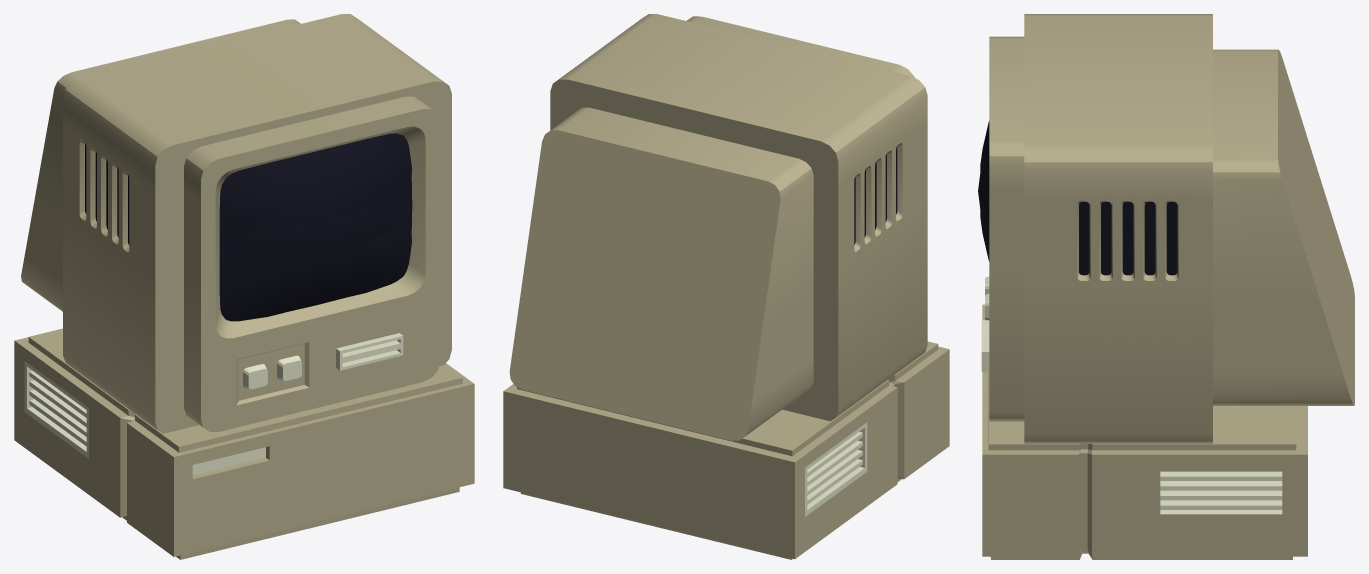
Rendered from computer.glb.
3 renders of one model, left to right at view 1: azimuth 30°, elevation 25°; view 2: azimuth 150°, elevation 25°; view 3: azimuth 270°, elevation 25°, orthographic. The views are drawn at different scales.
Parts seen in each view (by area): view 1: Computer; view 2: Computer; view 3: Computer.
Boxes of the visible parts, x1=… form: Computer: x1=14, y1=14, x2=474, y2=559; Computer: x1=503, y1=14, x2=949, y2=559; Computer: x1=978, y1=14, x2=1354, y2=559.
Bounding box in the file's own units: 1.39 × 1.77 × 1.48.
Materials: 1 (1 with a texture image).
